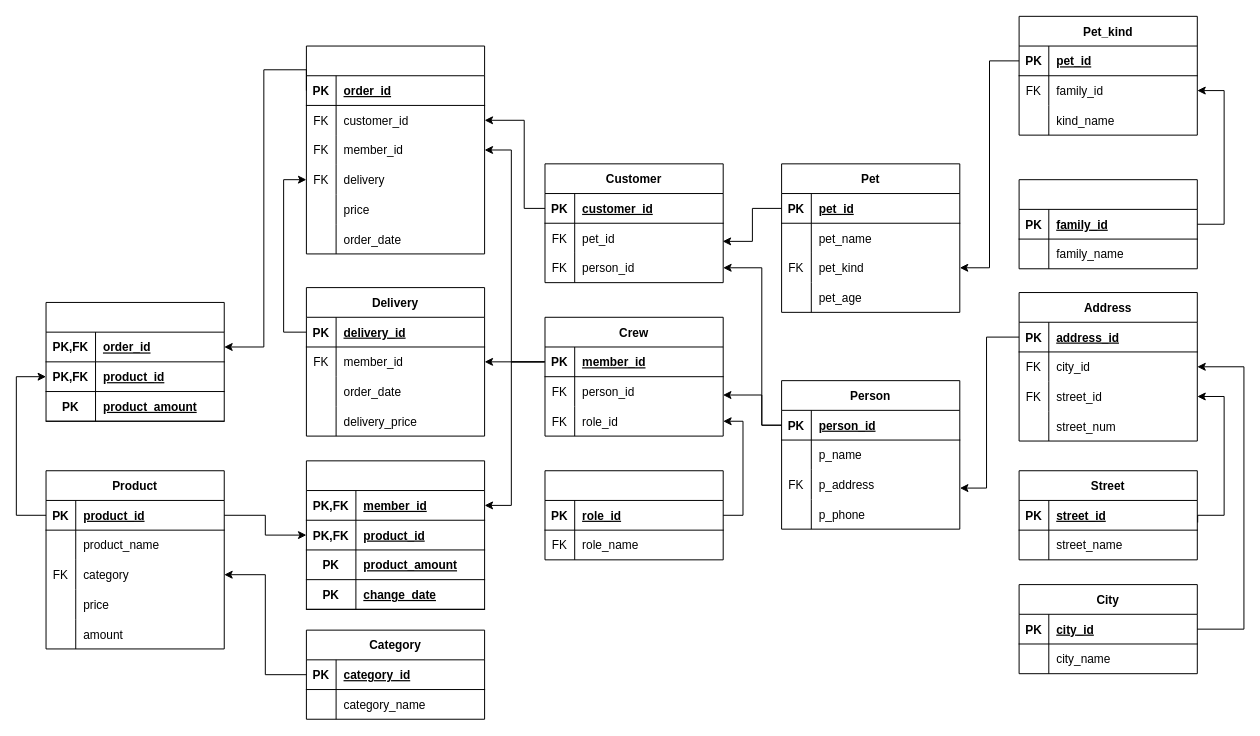
Image size: 1260x736. Some labels were removed from this diagram. Here are the shapes that lost their labels. From the top down, the box of each, then its label:
(305, 45, 485, 254): Store_order
(1018, 179, 1197, 269): Family_kind
(45, 301, 224, 421): Order_products
(305, 460, 485, 609): Inventory_changes
(544, 470, 723, 560): Store_role
